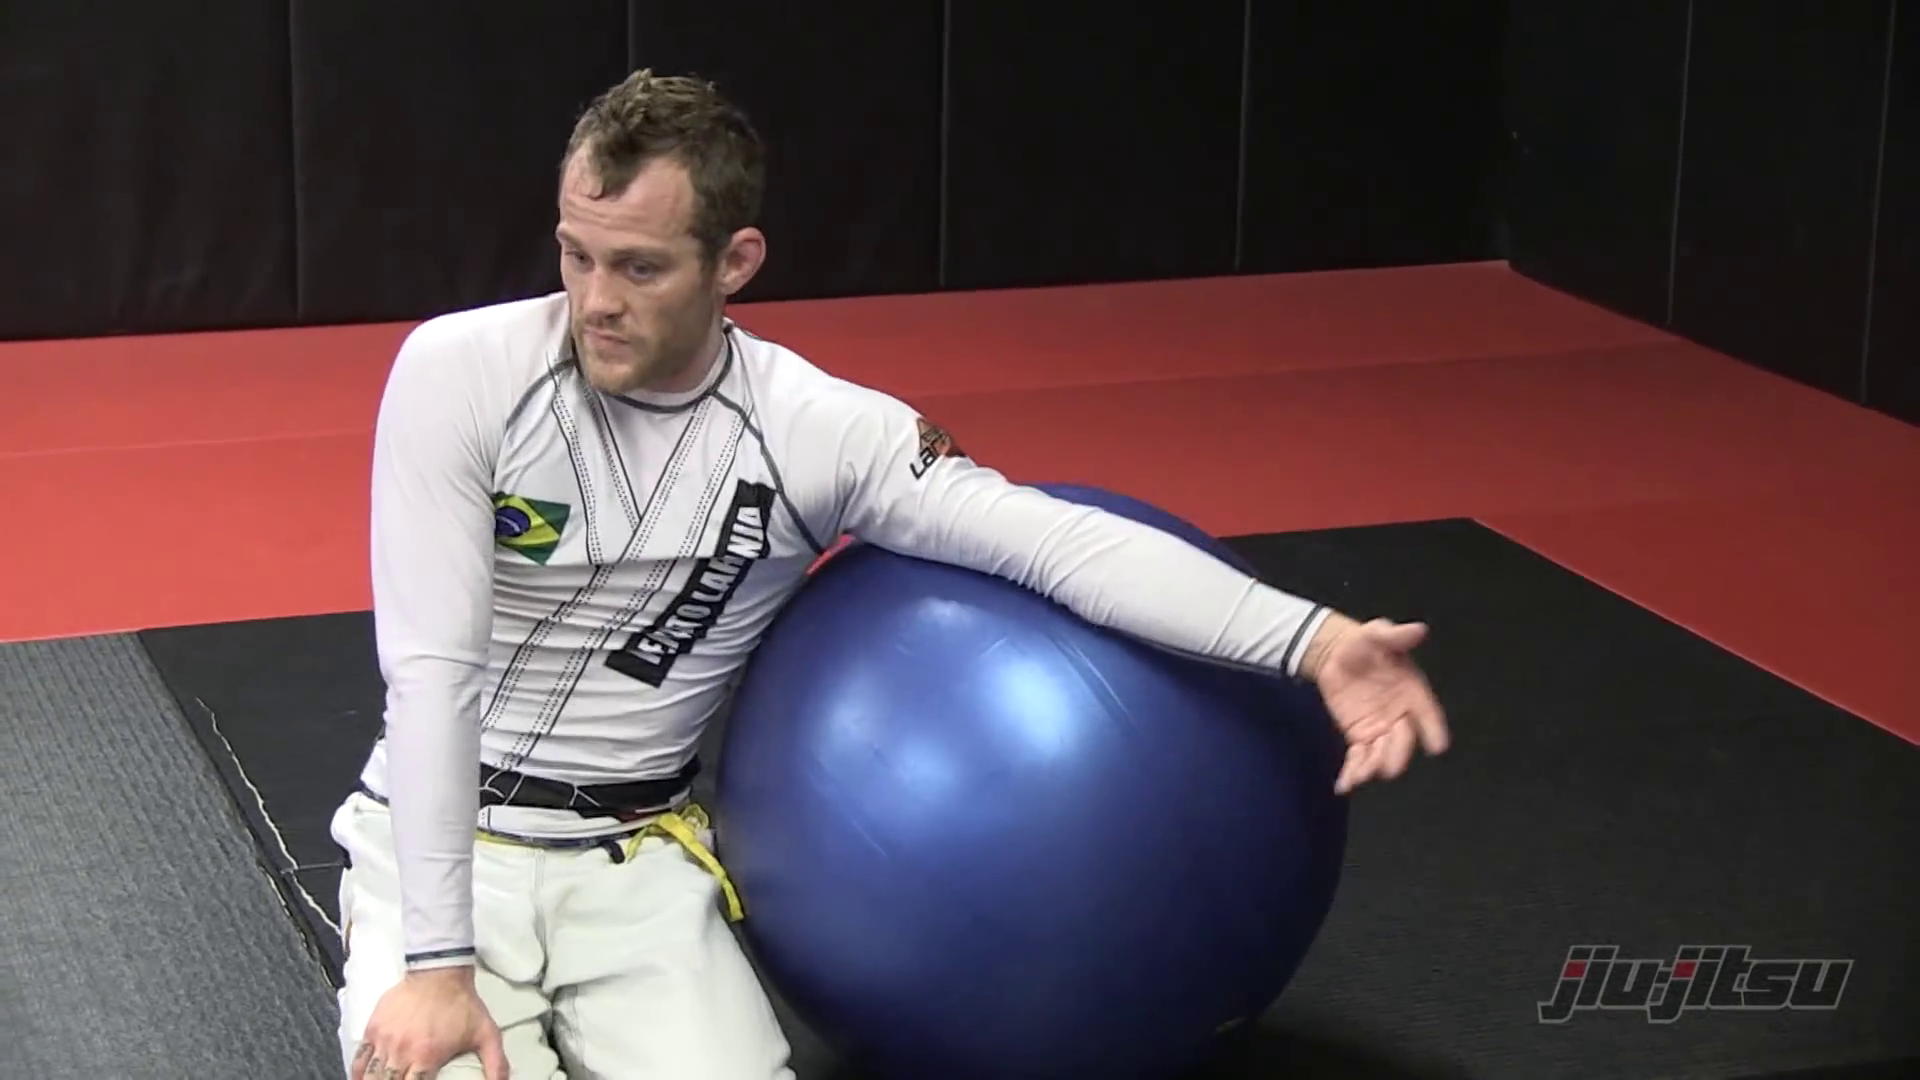yogaball: (708, 458, 1352, 1060)
